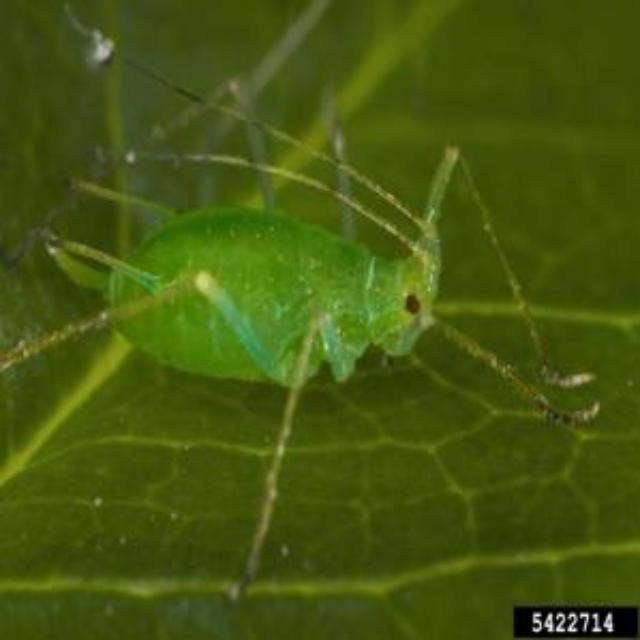Green peach aphid: (16, 48, 618, 566)
